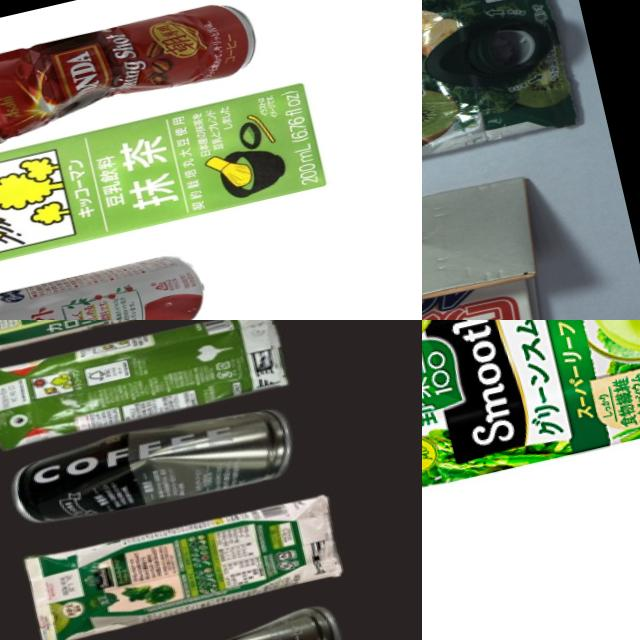Aluminium Foil: (0, 76, 333, 290), (17, 488, 354, 640), (422, 320, 640, 530), (422, 0, 587, 264), (0, 320, 291, 455), (422, 164, 597, 320)
Can: (4, 400, 292, 534), (0, 0, 260, 142), (0, 246, 212, 320), (47, 599, 345, 640)
